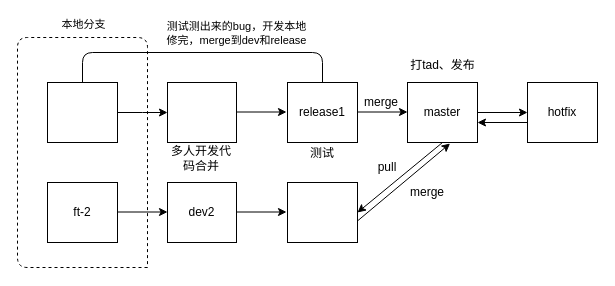
Some shapes in this 615 by 286 pixel diagram are drawn without their labels. The shapes that lost their labels are listed below. From the top down, each one's box as (x1, y1, x2, y2) in pixels, then its label:
(46, 82, 118, 142): ft-1
(166, 82, 236, 142): dev1
(286, 182, 358, 242): release2
